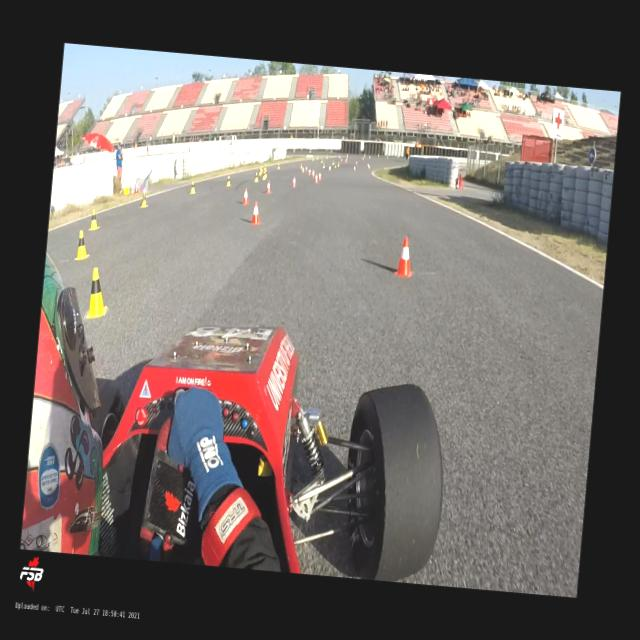orange_cone: (393, 235, 416, 278), (250, 200, 262, 225), (242, 187, 250, 205), (265, 180, 271, 194), (134, 180, 140, 193), (291, 176, 296, 187), (314, 174, 318, 182), (318, 172, 321, 180), (308, 168, 311, 175), (312, 169, 314, 177)
yellow_cone: (85, 266, 111, 321), (74, 228, 90, 260), (90, 208, 100, 230), (140, 190, 148, 208), (190, 180, 196, 194), (122, 186, 130, 195), (226, 174, 232, 186), (254, 172, 258, 182), (262, 170, 265, 180), (264, 168, 267, 178), (277, 162, 280, 170), (260, 167, 262, 174), (264, 163, 266, 170)
